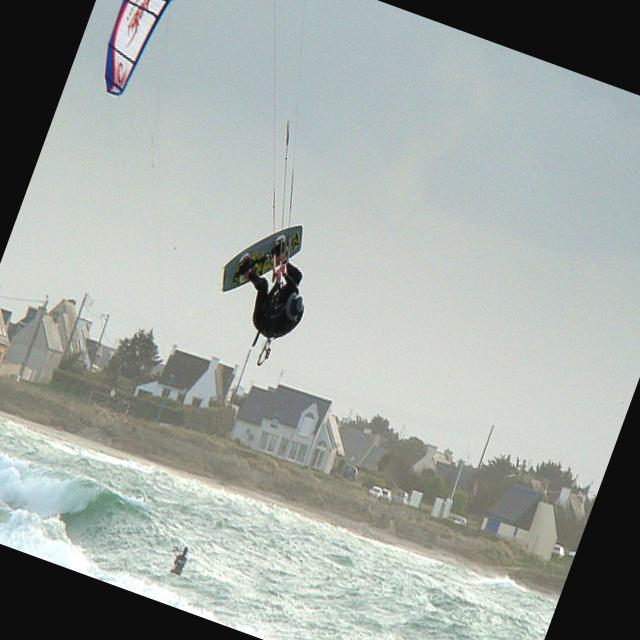Vehicle: (444, 511, 468, 527), (341, 462, 358, 482), (366, 483, 384, 500), (392, 489, 410, 506), (552, 543, 568, 559), (379, 488, 395, 503)
